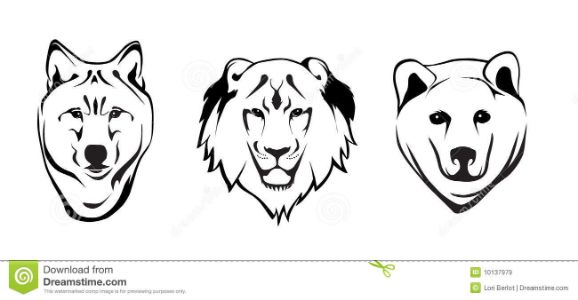bear: (386, 48, 528, 214)
wolf: (34, 31, 156, 232)
